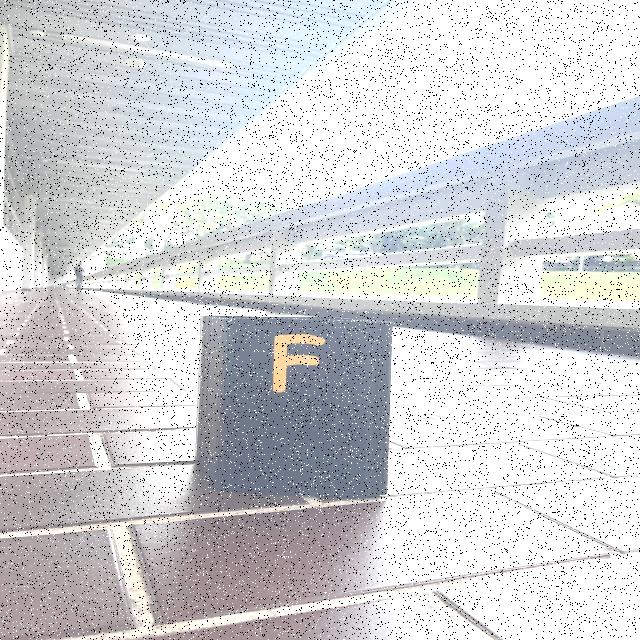F_id25: (245, 327, 347, 404)
